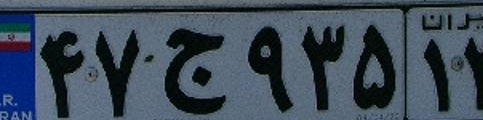character: (150, 23, 236, 120), (89, 24, 149, 120), (237, 23, 296, 120), (295, 18, 350, 120), (35, 23, 90, 120), (350, 16, 396, 120), (420, 35, 450, 120), (458, 36, 483, 120)
